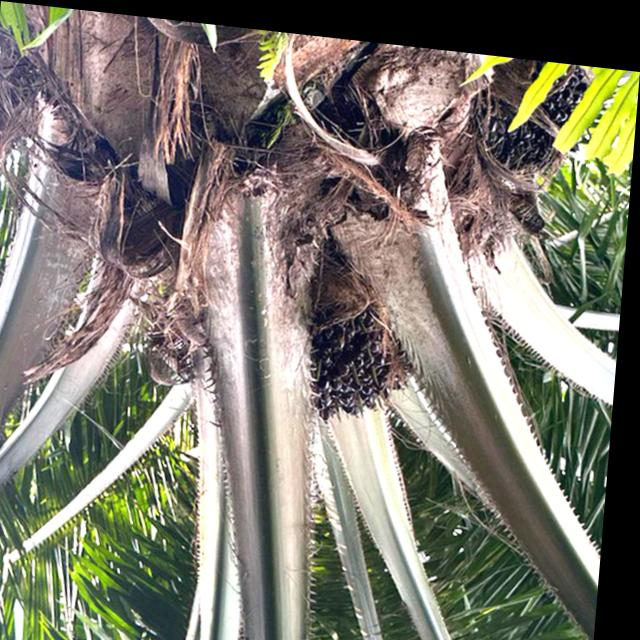unripe: (283, 254, 436, 429)
